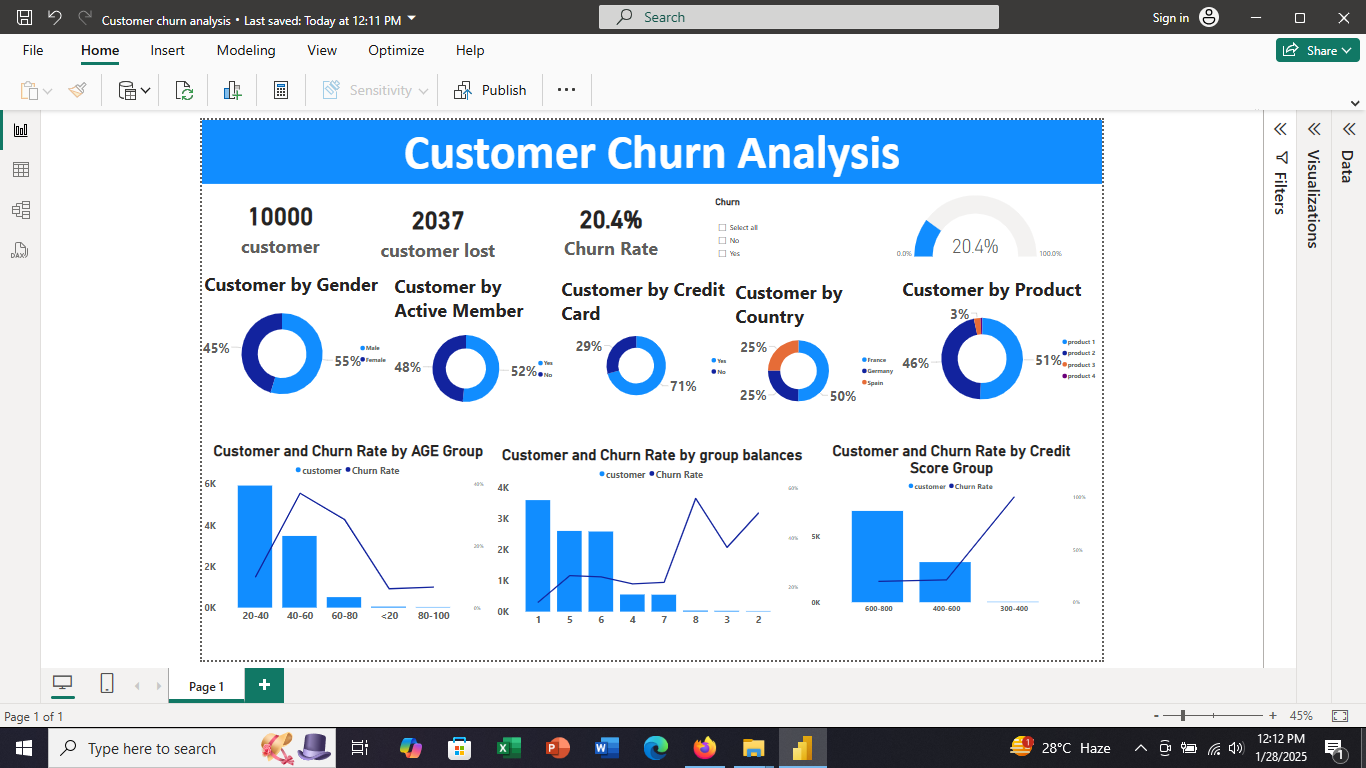

Layout of this report page (visuals, bound fields, positions):
{"tool":"powerbi","page":{"name":"Page 1","canvas":[2000,1200],"ordinal":0},"visuals":[{"type":"textbox","box":[0,0,2000,141.7],"z":0},{"type":"card","fields":{"Values":["age group.customer"]},"box":[0,141.6,348,184.8],"z":1000},{"type":"card","fields":{"Values":["age group.customer lost"]},"box":[348,151.2,350.4,184.8],"z":2000},{"type":"card","fields":{"Values":["age group.Churn rate"]},"box":[698.4,141.6,422.4,196.8],"z":3000},{"type":"donutChart","title":"Customer by Gender","fields":{"Category":["Customer data.Gender"],"Y":["age group.customer"]},"box":[0,338.6,422.6,309.7],"z":4000},{"type":"donutChart","title":"Customer by Active Member","fields":{"Category":["Customer data.Active Member"],"Y":["age group.customer"]},"box":[422.4,343.2,372,314.4],"z":5000},{"type":"donutChart","title":"Customer by Credit Card","fields":{"Y":["age group.customer"],"Category":["Customer data.Credit Card"]},"box":[794.4,348,386.4,288],"z":6000},{"type":"donutChart","title":"Customer by Country","fields":{"Y":["age group.customer"],"Category":["Customer data.Country"]},"box":[1180.8,355.2,369.6,297.6],"z":7000},{"type":"donutChart","title":"Customer by Product","fields":{"Y":["age group.customer"],"Category":["Customer data.Product"]},"box":[1551.2,349.1,448.8,309.7],"z":8000},{"type":"lineClusteredColumnComboChart","title":"Customer and Churn Rate by AGE Group","fields":{"Category":["age group.AGE Group"],"Y":["age group.customer"],"Y2":["age group.Churn Rate"]},"box":[0,715.2,650.4,410.4],"z":9000},{"type":"lineClusteredColumnComboChart","title":"Customer and Churn Rate by  group balances","fields":{"Y":["age group.customer"],"Y2":["age group.Churn Rate"],"Category":["group balance.group balance "]},"box":[650.4,724.8,698.4,410.4],"z":10000},{"type":"lineClusteredColumnComboChart","title":"Customer and Churn Rate by Credit Score Group","fields":{"Y":["age group.customer"],"Y2":["age group.Churn Rate"],"Category":["credit group.Credit Score Group"]},"box":[1348.8,715.2,633.6,391.2],"z":11000},{"type":"gauge","fields":{"Y":["age group.Churn Rate"],"MinValue":["Min(Customer data.Min churn rate)"],"MaxValue":["Max(Customer data.Max churn rate)"],"TargetValue":["Max(Customer data.tar churn rate)"]},"box":[1473.6,163.2,508.8,151.2],"z":12000},{"type":"slicer","title":"Churn","fields":{"Values":["Customer data.Churn"]},"box":[1135.2,168,338.4,151.2],"z":13000}]}

Visuals, with their boxes on the page's 2000x1200 design canvas (x1, y1, x2, y2). These are canvas units, not pixel positions in the 1366x768 screenshot, which may show the page scaled, cropped or inside an application window:
textbox: <region>0, 0, 2000, 142</region>
card - age group.customer: <region>0, 142, 348, 326</region>
card - age group.customer lost: <region>348, 151, 698, 336</region>
card - age group.Churn rate: <region>698, 142, 1121, 338</region>
"Customer by Gender" donutChart: <region>0, 339, 423, 648</region>
"Customer by Active Member" donutChart: <region>422, 343, 794, 658</region>
"Customer by Credit Card" donutChart: <region>794, 348, 1181, 636</region>
"Customer by Country" donutChart: <region>1181, 355, 1550, 653</region>
"Customer by Product" donutChart: <region>1551, 349, 2000, 659</region>
"Customer and Churn Rate by AGE Group" lineClusteredColumnComboChart: <region>0, 715, 650, 1126</region>
"Customer and Churn Rate by  group balances" lineClusteredColumnComboChart: <region>650, 725, 1349, 1135</region>
"Customer and Churn Rate by Credit Score Group" lineClusteredColumnComboChart: <region>1349, 715, 1982, 1106</region>
gauge - age group.Churn Rate x Min(Customer data.Min churn rate): <region>1474, 163, 1982, 314</region>
"Churn" slicer: <region>1135, 168, 1474, 319</region>
